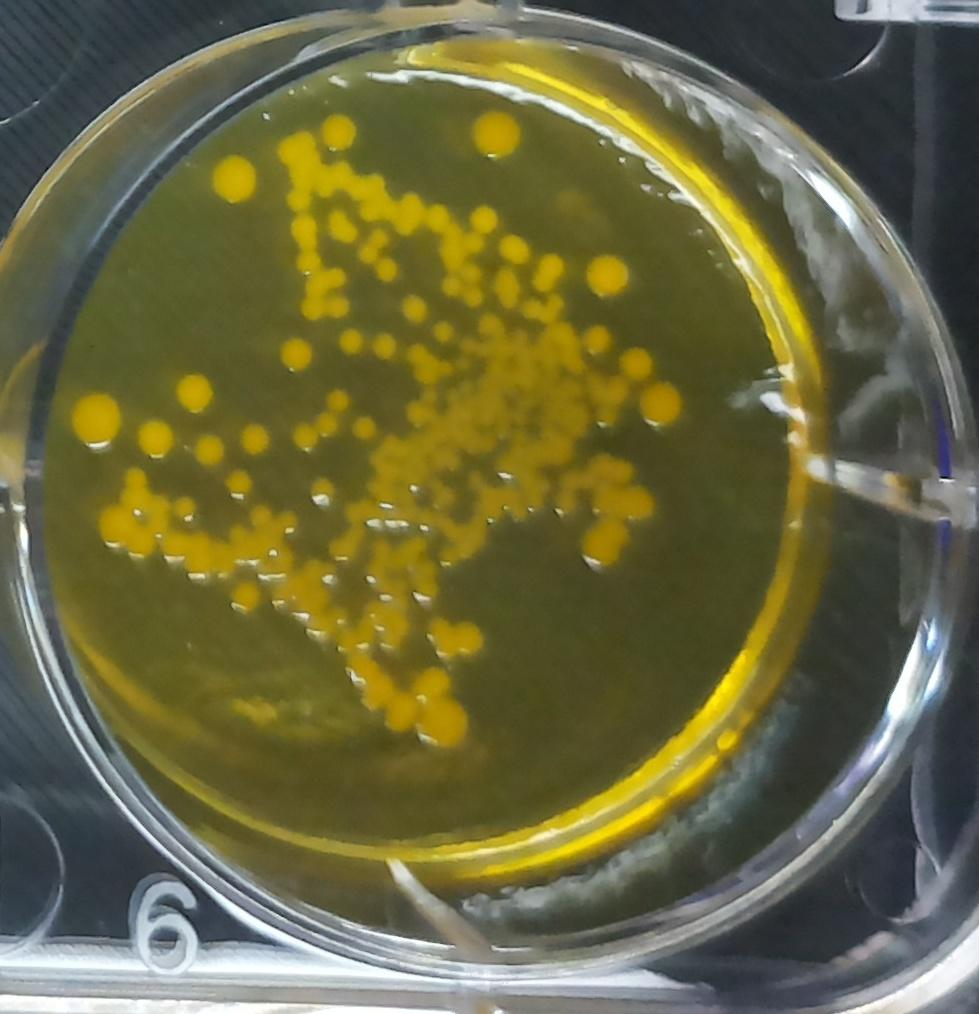vharveyi: (467, 100, 528, 171)
